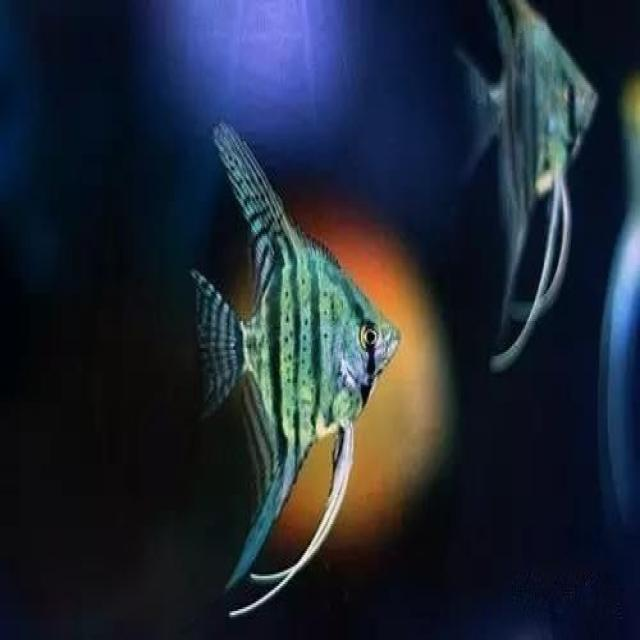AngelFish: (196, 118, 406, 617), (456, 0, 602, 379)
